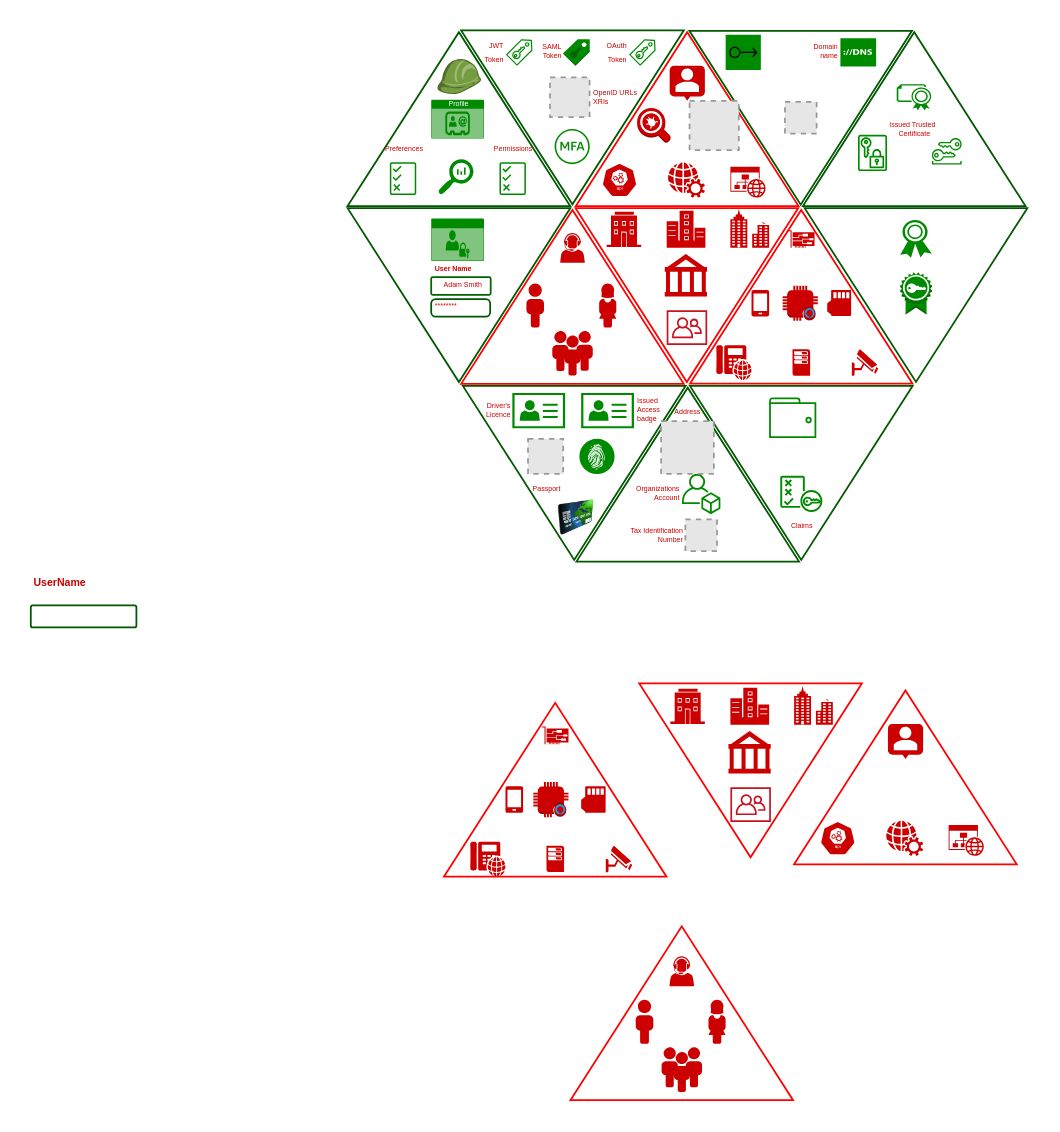
The diagram is 1060 pixels wide and 1132 high, and some of its shapes have lost their labels. Grey dashed boxes stand in for pictures. The shapes that lost their labels are listed below. From the top down, each one's centre as x and y in pixels, then its label:
the point at 742,51: Static IP Address
the point at 458,75: Role
the point at 571,145: Token
the point at 871,152: Data Encryption key
the point at 946,150: Trusted Secure Credentials
the point at 455,176: Search History
the point at 456,239: Login
the point at 791,417: Digital ID Wallet
the point at 596,455: Biometrics
